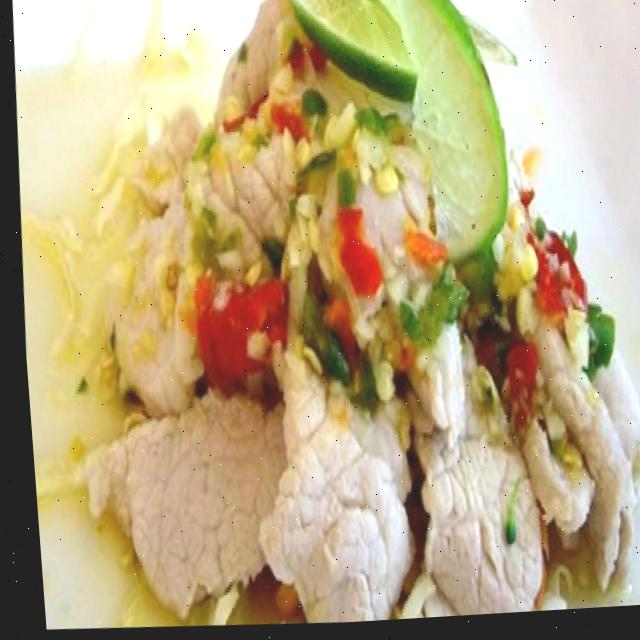猪肉菜式: (2, 0, 640, 634)
